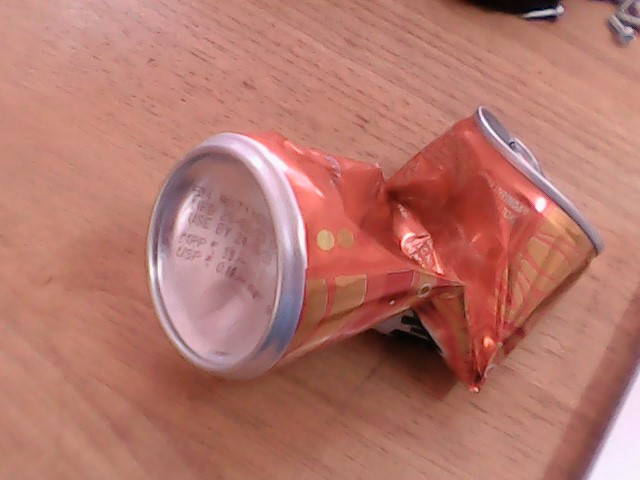Metal: (129, 133, 640, 369)
